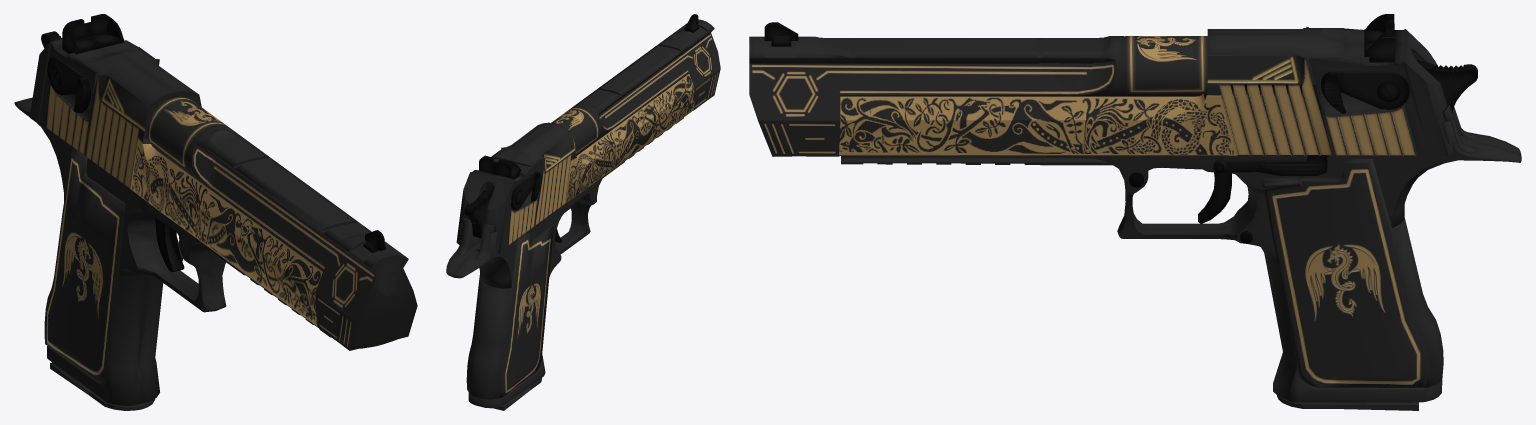
The model's file is deagle.fbx.
The picture shows the model from 3 angles, left to right: view 1: azimuth 30°, elevation 25°; view 2: azimuth 150°, elevation 25°; view 3: azimuth 270°, elevation 25°; orthographic projection. The views are drawn at different scales.
Visible parts, largest first — view 1: desert_eagle.002; view 2: desert_eagle.002; view 3: desert_eagle.002.
Part boxes in pixels (left/top/right/bottom): desert_eagle.002: left=14, top=14, right=417, bottom=410; desert_eagle.002: left=446, top=14, right=720, bottom=410; desert_eagle.002: left=749, top=14, right=1521, bottom=410.
Size of the model in its own units: 130 by 609 by 1136.
